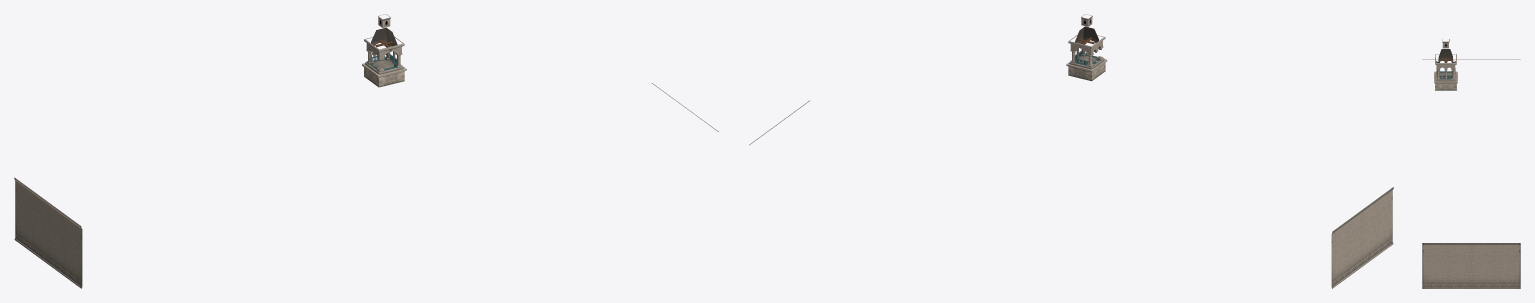
Rendered from t1_b_south_station_side_top.glb.
3 renders of one model, left to right at view 1: azimuth 30°, elevation 25°; view 2: azimuth 150°, elevation 25°; view 3: azimuth 270°, elevation 25°, orthographic. The views are drawn at different scales.
Visible parts, largest first — view 1: south_station_side_top; view 2: south_station_side_top; view 3: south_station_side_top.
Part boxes in pixels (x1=…): south_station_side_top: x1=14, y1=14, x2=718, y2=288; south_station_side_top: x1=749, y1=14, x2=1393, y2=288; south_station_side_top: x1=1422, y1=39, x2=1520, y2=288.
Size of the model in its own units: 86.8 by 23.73 by 15.78.
Materials: 1 (1 with a texture image).
